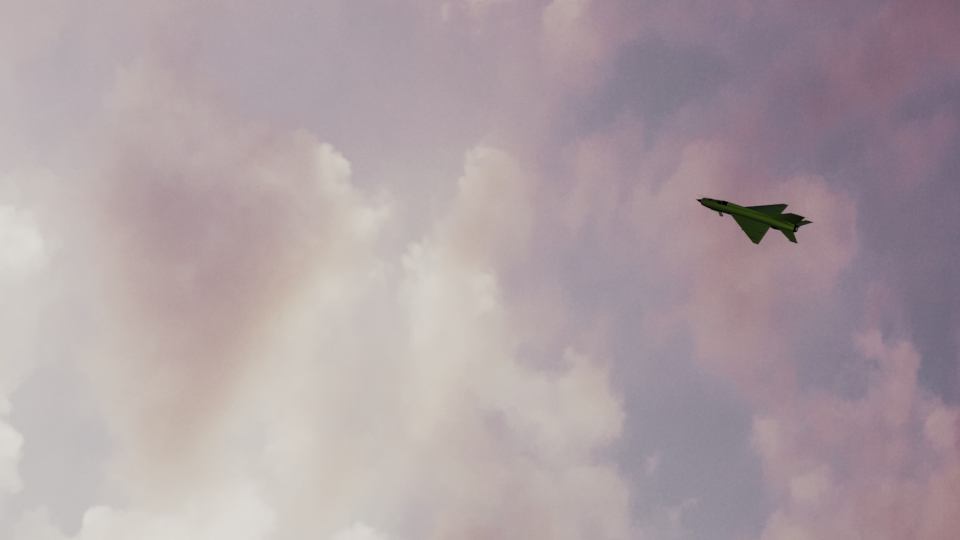plane: (695, 195, 813, 244)
